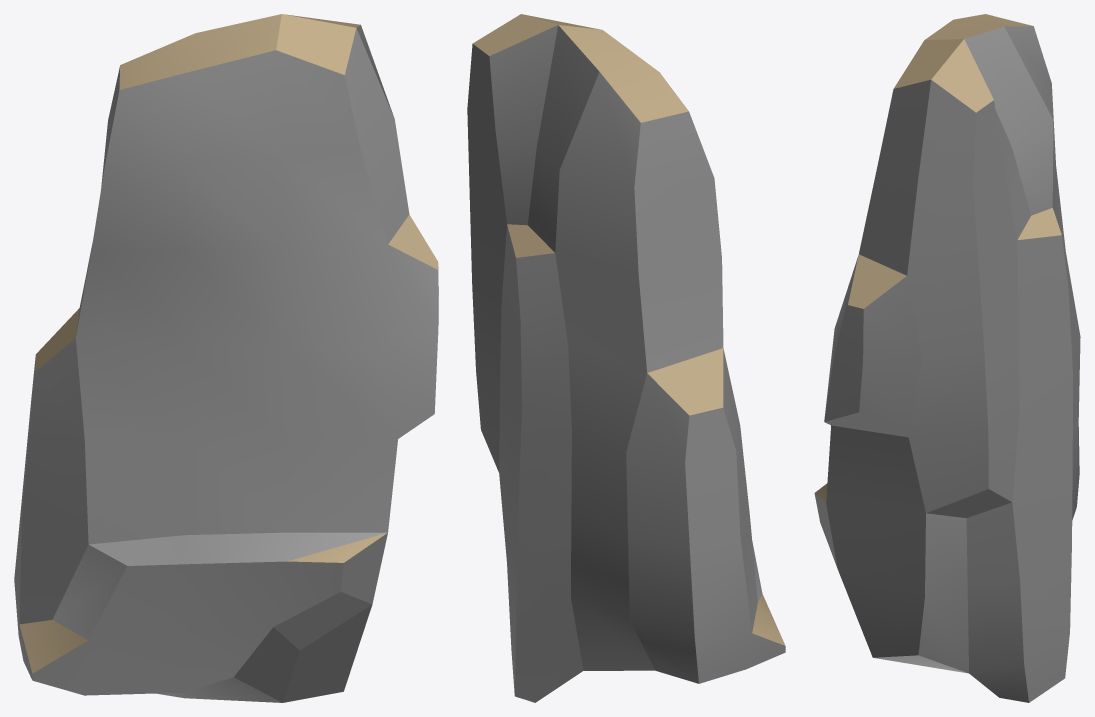
Rendered from rock12.glb.
3 views of the same model, side by side, from view 1: azimuth 30°, elevation 25°; view 2: azimuth 150°, elevation 25°; view 3: azimuth 270°, elevation 25° (orthographic). The views are drawn at different scales.
Visible parts, largest first — view 1: rock.029_0.001; view 2: rock.029_0.001; view 3: rock.029_0.001.
Boxes of the visible parts, x1,y1,x2,y2 form: rock.029_0.001: [14, 14, 438, 702]; rock.029_0.001: [467, 14, 785, 702]; rock.029_0.001: [814, 14, 1080, 702].
Bounding box in the file's own units: 6.29 × 11.97 × 4.37.
